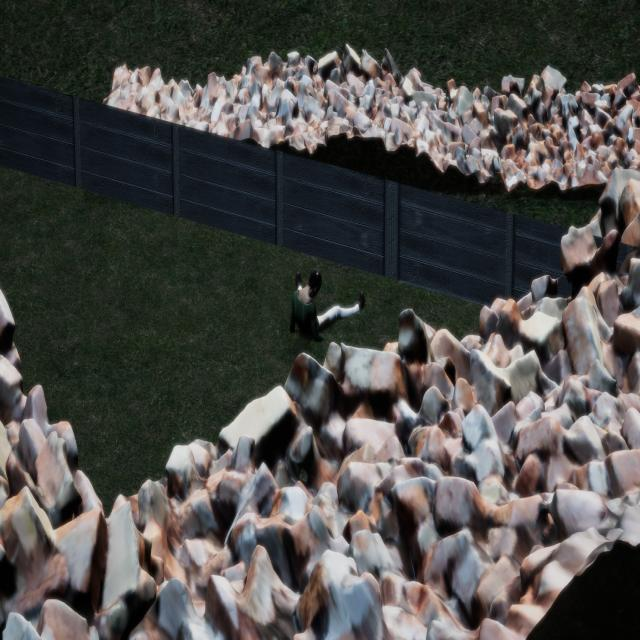Human: (279, 251, 371, 348)
